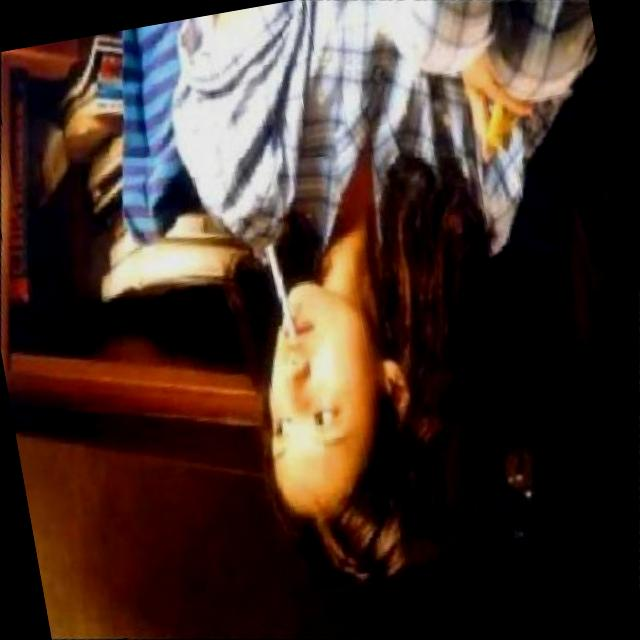smoke: (245, 235, 316, 346)
